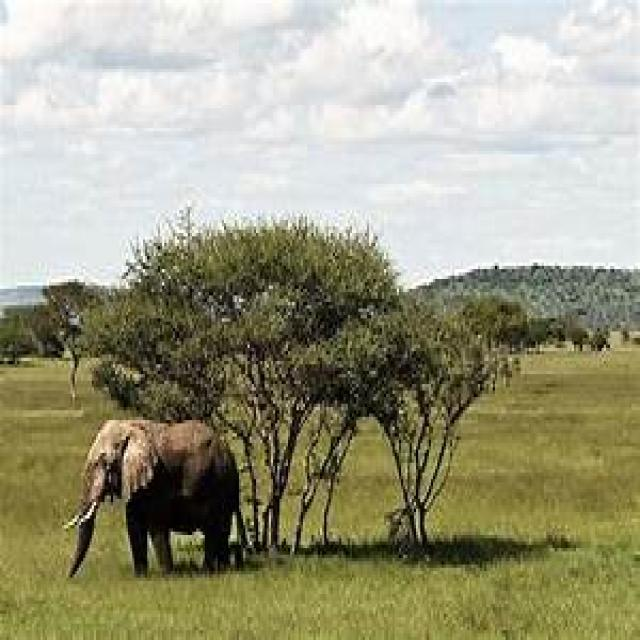elephant: (66, 420, 241, 578)
